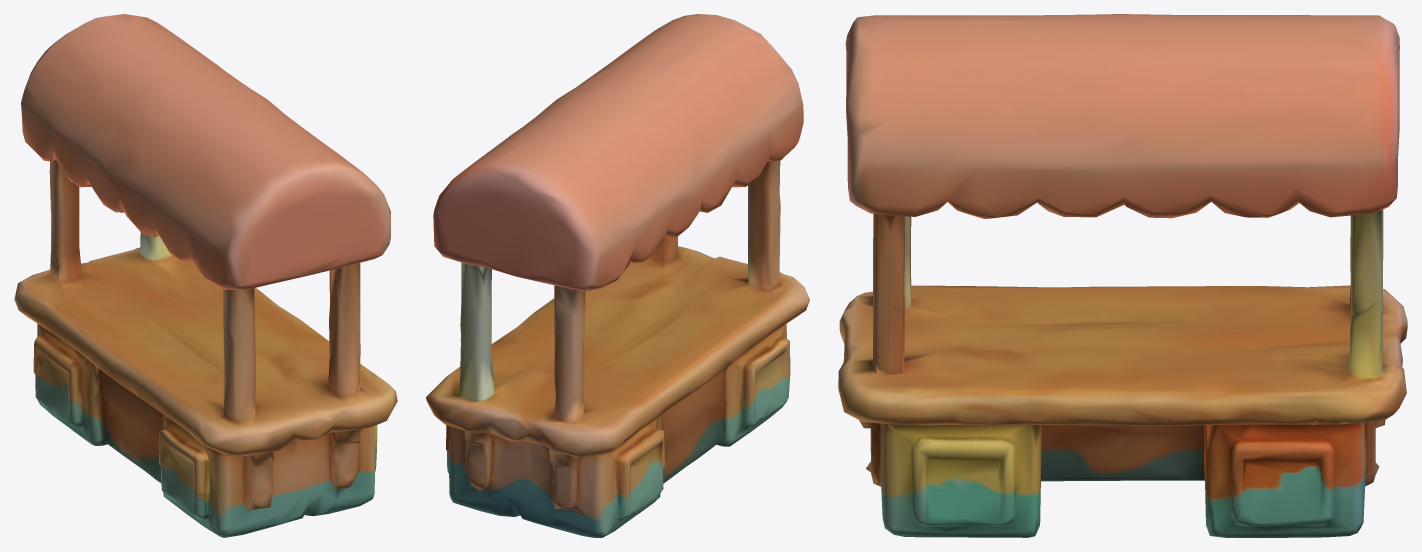
Rendered from textures.glb.
3 views of the same model, side by side, from view 1: azimuth 30°, elevation 25°; view 2: azimuth 150°, elevation 25°; view 3: azimuth 270°, elevation 25° (orthographic). The views are drawn at different scales.
Visible parts, largest first — view 1: tripo_node_207e6c89-7611-4e7e-8eff-e25f738bef01; view 2: tripo_node_207e6c89-7611-4e7e-8eff-e25f738bef01; view 3: tripo_node_207e6c89-7611-4e7e-8eff-e25f738bef01.
Boxes of the visible parts, box(x1,y1,x2,y2) form: tripo_node_207e6c89-7611-4e7e-8eff-e25f738bef01: box(14, 14, 397, 537); tripo_node_207e6c89-7611-4e7e-8eff-e25f738bef01: box(426, 14, 809, 537); tripo_node_207e6c89-7611-4e7e-8eff-e25f738bef01: box(838, 14, 1407, 537).
Bounding box in the file's own units: 0.4886 × 0.9019 × 1.
1 material, 1 textured.
